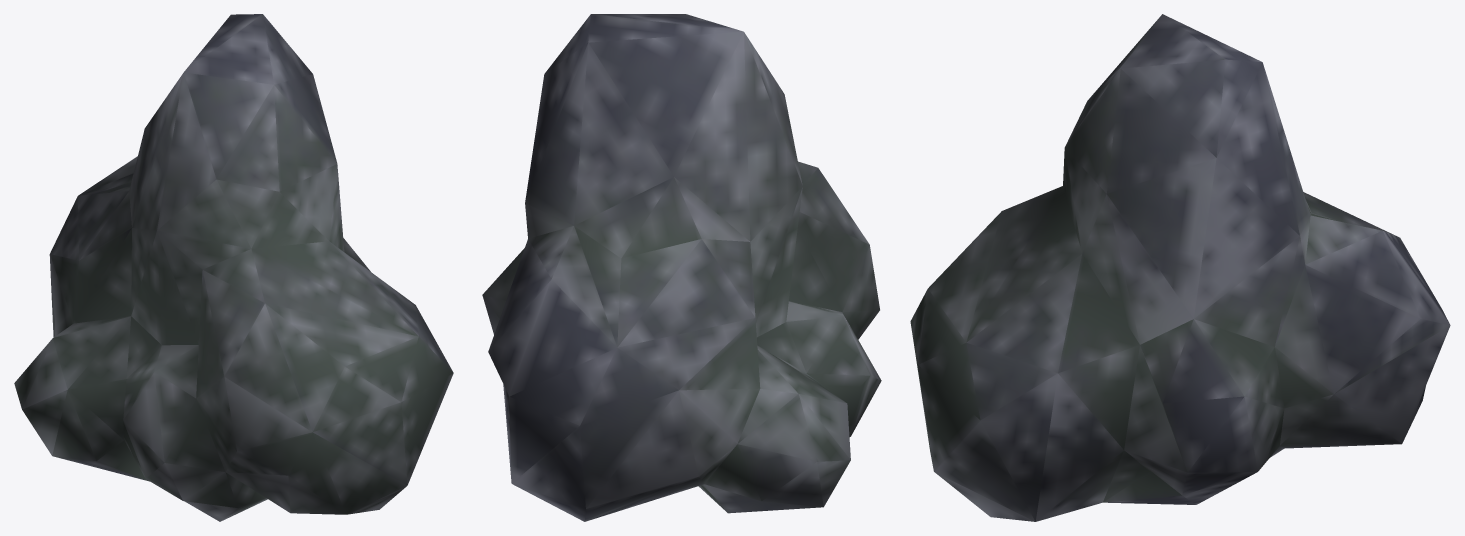
File: Rock_08.fbx
3 renders of one model, left to right at view 1: azimuth 30°, elevation 25°; view 2: azimuth 150°, elevation 25°; view 3: azimuth 270°, elevation 25°, orthographic. The views are drawn at different scales.
Visible parts, largest first — view 1: Rock_08; view 2: Rock_08; view 3: Rock_08.
Boxes of the visible parts, x1,y1,x2,y2 form: Rock_08: (14, 14, 453, 521); Rock_08: (482, 14, 881, 521); Rock_08: (910, 14, 1450, 521).
Size of the model in its own units: 366 by 452 by 468.
Materials: 1 (1 with a texture image).
